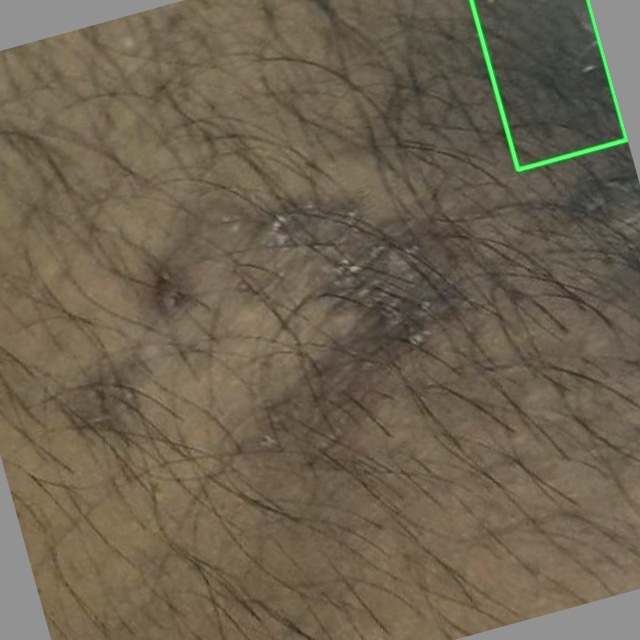Tinea Corporis: (471, 0, 627, 169)
